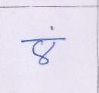anusvara: (50, 26, 54, 30)
